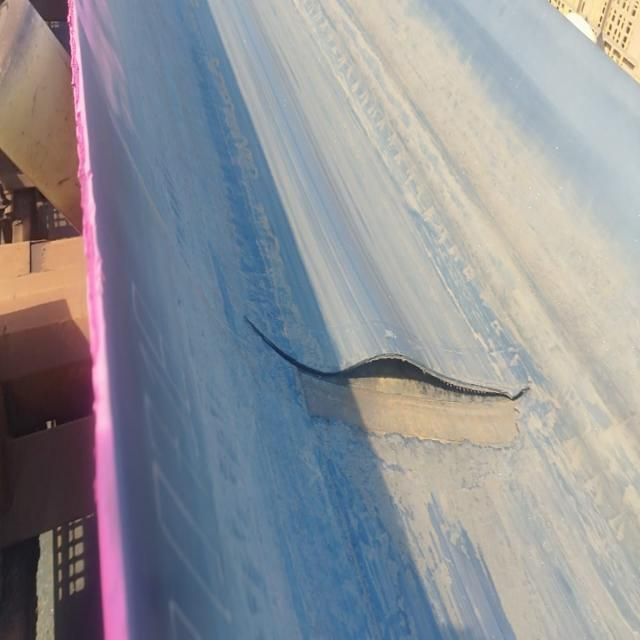Tear: (236, 310, 534, 420)
